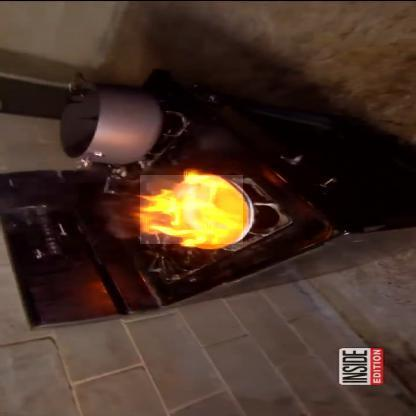Fire: (134, 167, 260, 250)
